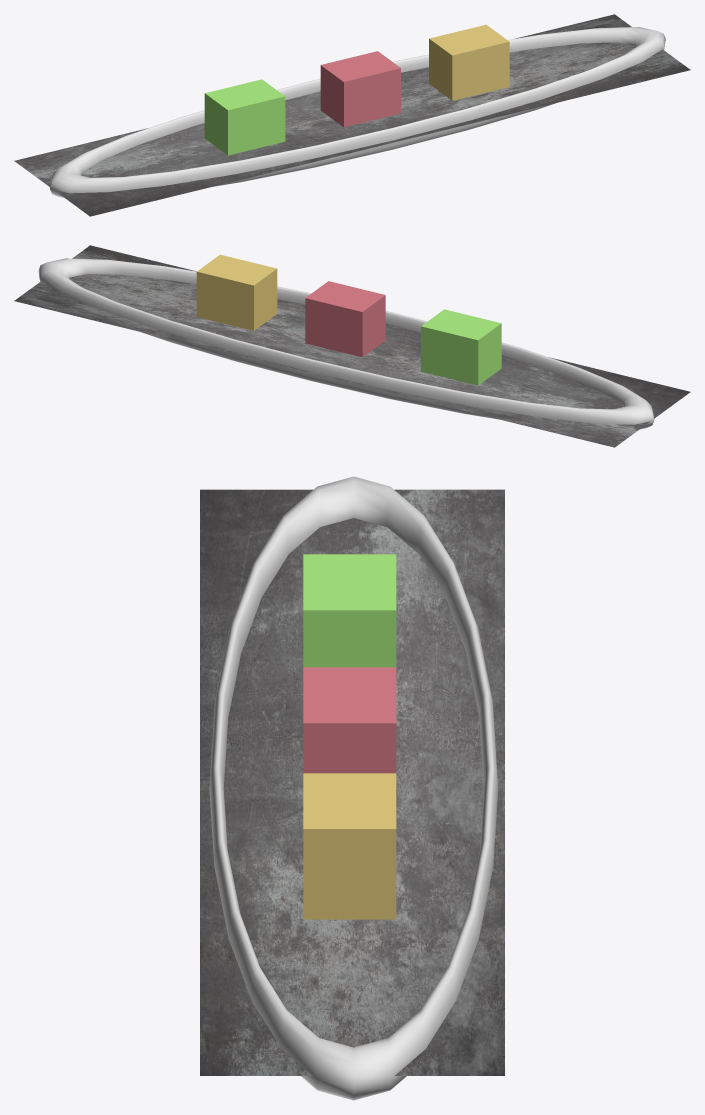
Rendered from Racetrack Advanced.fbx.
3 renders of one model, top to bottom at view 1: azimuth 30°, elevation 25°; view 2: azimuth 150°, elevation 25°; view 3: azimuth 270°, elevation 25°, orthographic. The views are drawn at different scales.
Parts seen in each view (by area): view 1: Plane001, Torus001, Box005, Box009, Box008; view 2: Plane001, Torus001, Box009, Box008, Box005; view 3: Plane001, Torus001, Box009, Box005, Box008.
Part boxes in pixels (x1,y1,x2,y2): Plane001: (14,14,690,216); Torus001: (50,27,665,197); Box005: (204,79,285,155); Box009: (429,24,509,100); Box008: (320,51,400,127); Plane001: (14,245,690,447); Torus001: (38,258,654,429); Box009: (196,254,277,330); Box008: (305,281,385,357); Box005: (421,309,501,385); Plane001: (200,489,504,1075); Torus001: (209,476,498,1100); Box009: (303,773,396,919); Box005: (303,554,396,667); Box008: (303,667,396,773).
Size of the model in its own units: 502 by 45.6 by 108.
4 materials, 1 textured.
